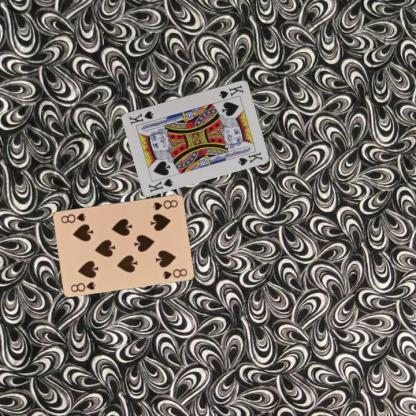8s: (68, 279, 97, 293), (151, 197, 179, 211)
Ks: (217, 82, 245, 100), (146, 176, 175, 193)
